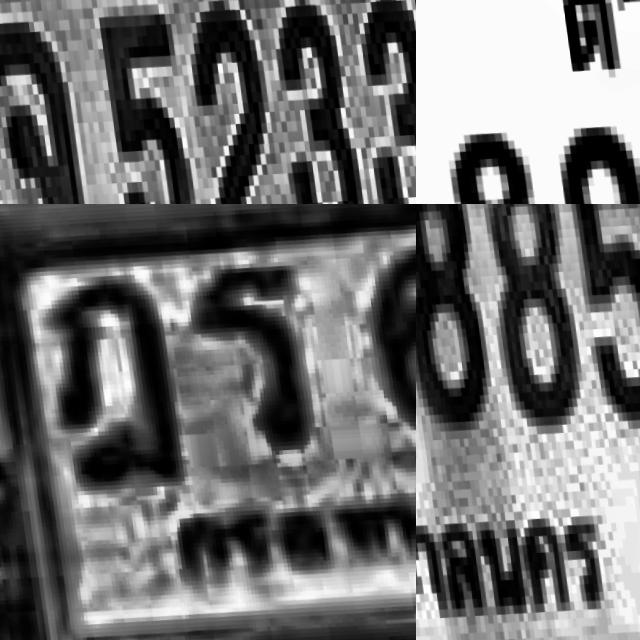license-plate: (0, 204, 416, 640), (416, 204, 640, 640), (0, 0, 416, 204), (416, 0, 640, 204)
